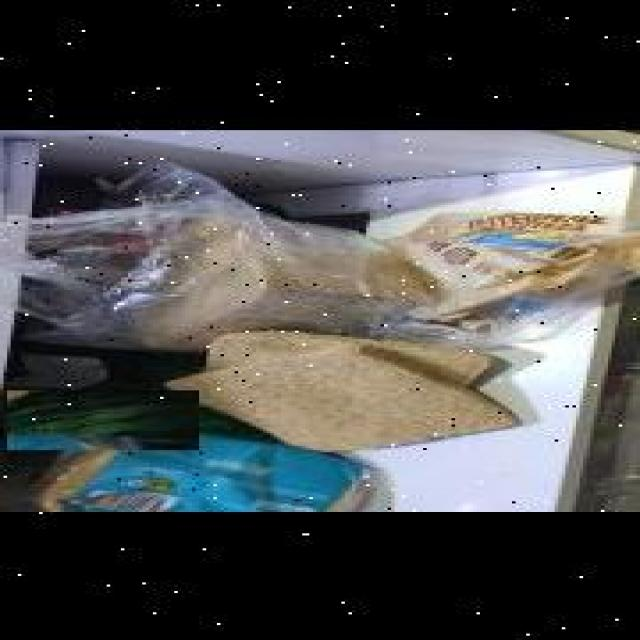bread: (135, 216, 437, 342)
broccoli: (0, 373, 57, 422)
green_beans: (7, 387, 199, 447)
